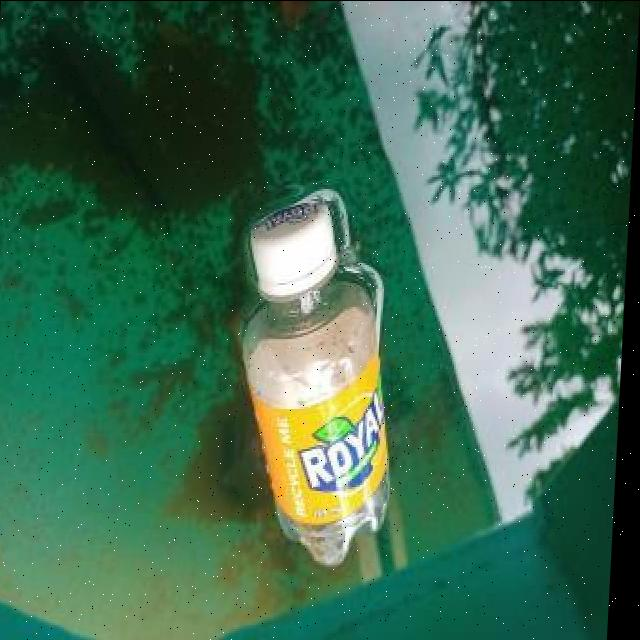bottle: (234, 197, 407, 567)
